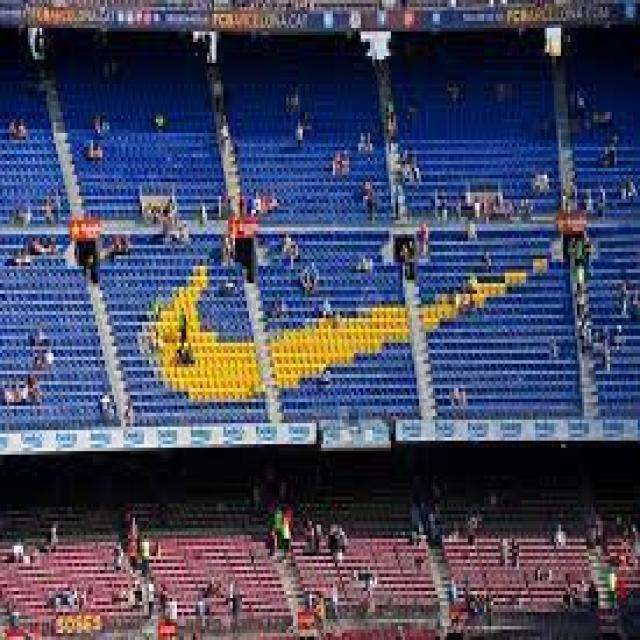Nike: (136, 246, 580, 412)
